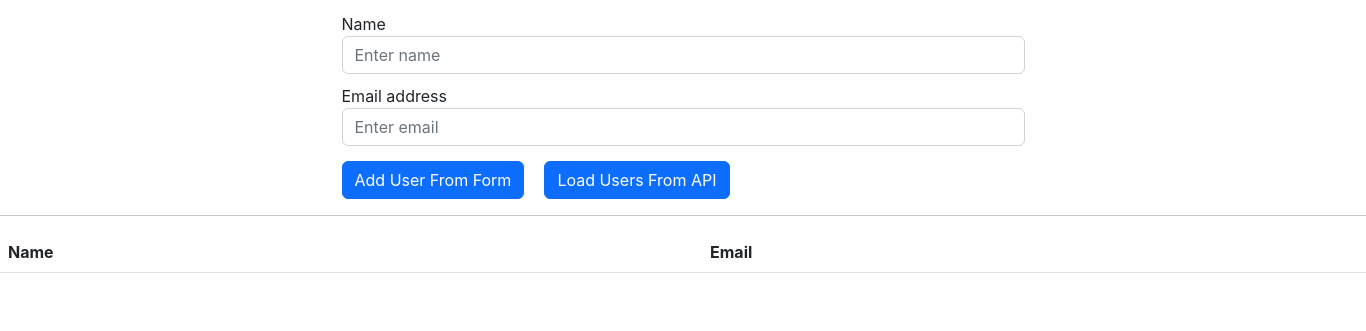
Test case: test the whole app › it can receive a new user and show it on a list
Note: simulate typing in a name
Click the field labelled "Name".
click(683, 55)  # box x1=342 y1=36 x2=1024 y2=74
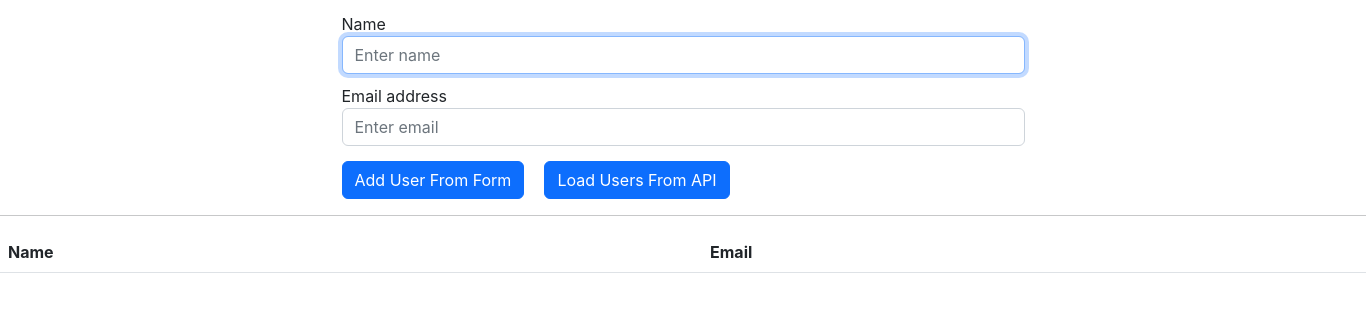
Type keys "jane"
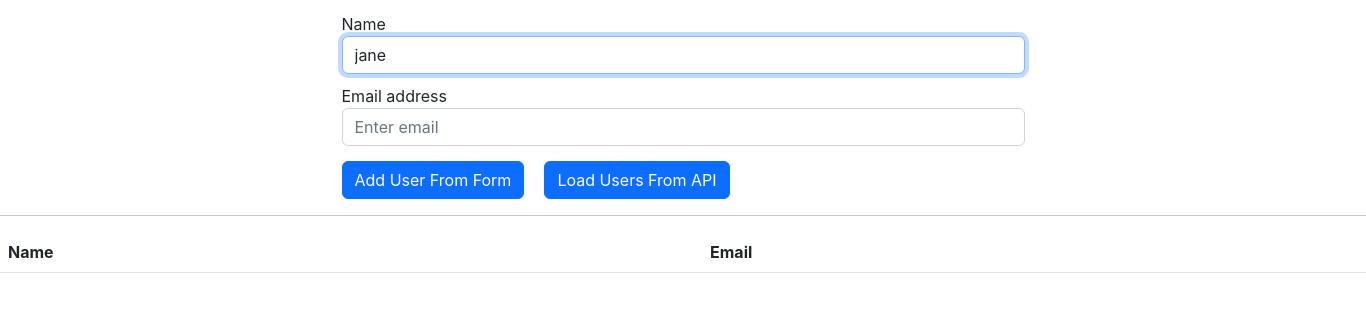
Note: simulate typing in an email
Click the field labelled "Email address".
click(683, 127)  # box x1=342 y1=108 x2=1024 y2=146
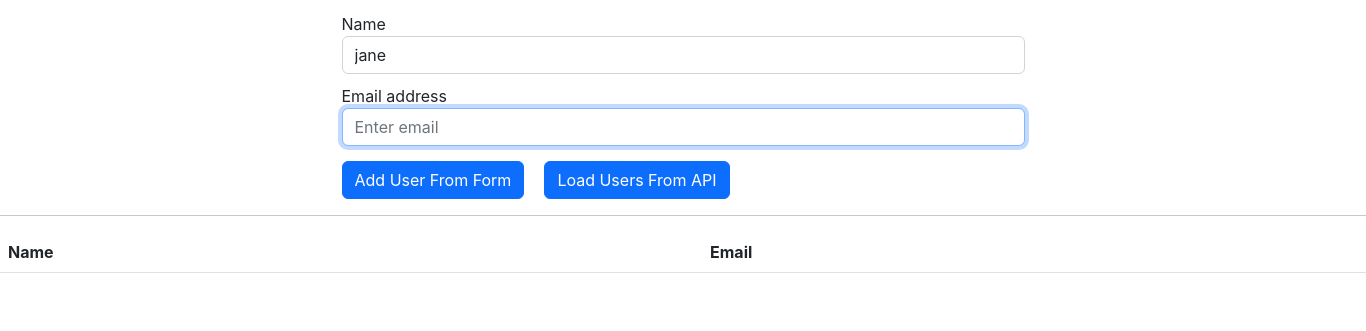
Type keys "jane@jane.com"
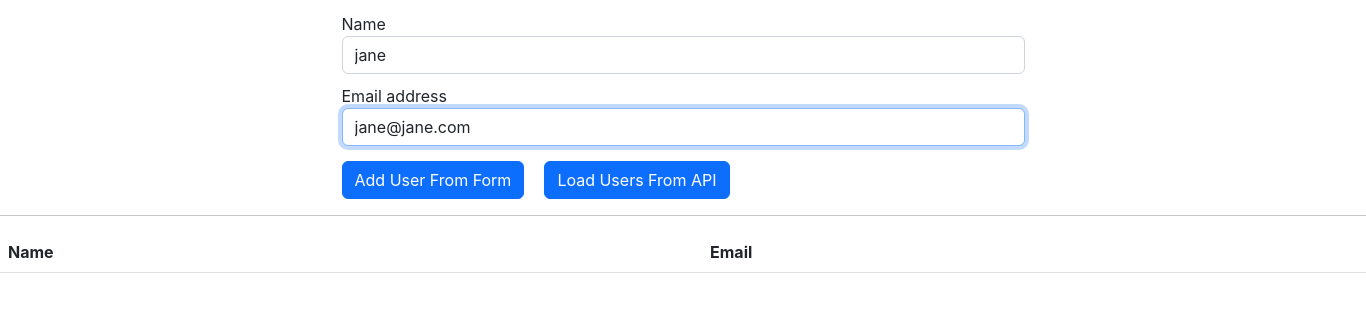
Note: simulate clicking the button
Click the button "Add User From Form".
click(433, 180)  # box x1=342 y1=161 x2=524 y2=199
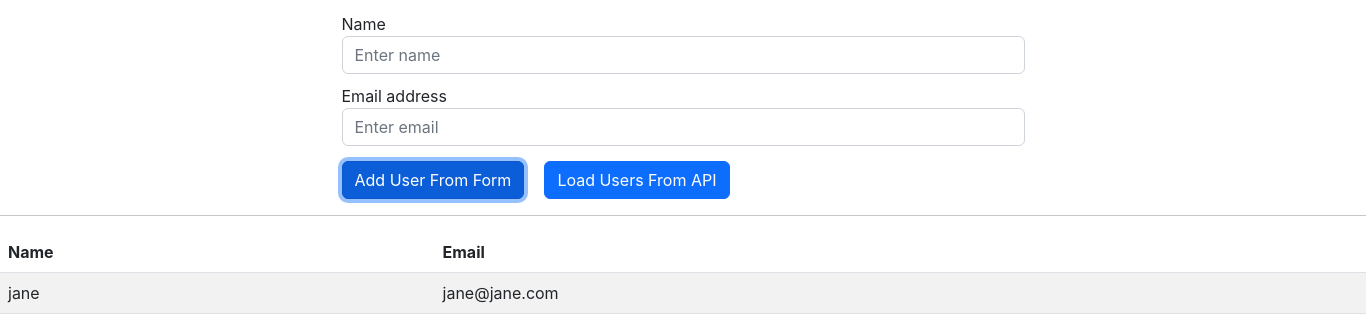
Expected: the cell "jane" is shown, x1=0 y1=272 x2=434 y2=314
Expected: the cell "jane@jane.com" is shown, x1=434 y1=272 x2=1365 y2=314
